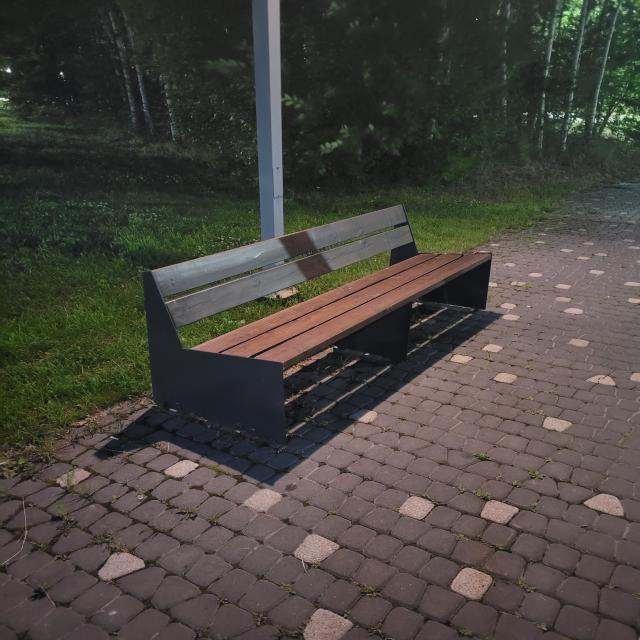Bench: (144, 204, 491, 442)
